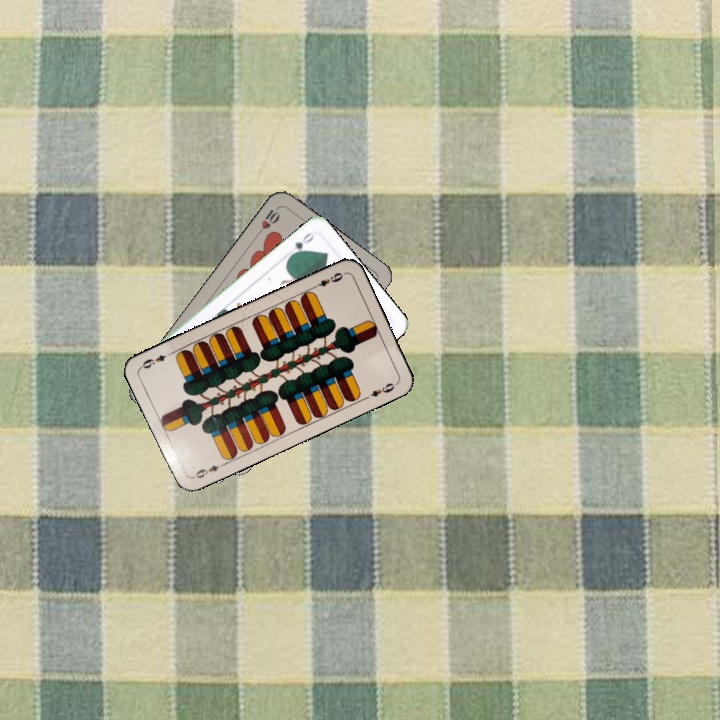E9: (309, 268, 347, 291), (189, 459, 228, 481)
GO: (285, 228, 317, 261)
H10: (253, 203, 283, 238)
